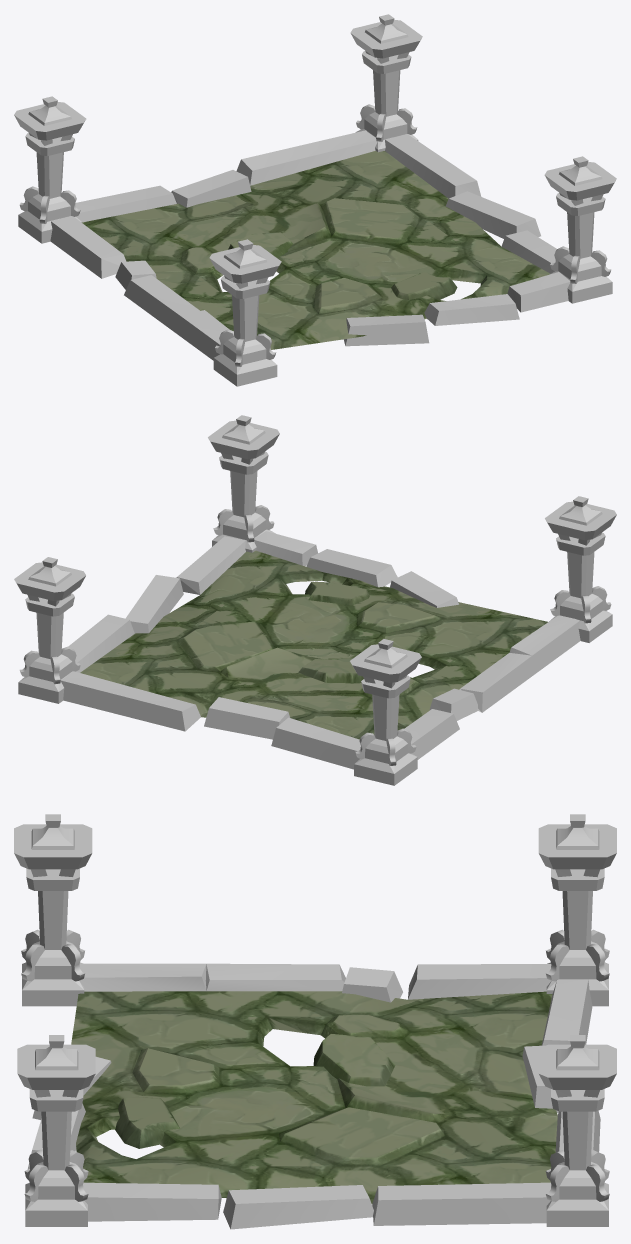
The model's file is SV_AFT_xinshou_jitan_1.FBX.
The picture shows the model from 3 angles, top to bottom: view 1: azimuth 30°, elevation 25°; view 2: azimuth 150°, elevation 25°; view 3: azimuth 270°, elevation 25°; orthographic projection. The views are drawn at different scales.
Parts seen in each view (by area): view 1: Object286, D1000_BUD_02230008; view 2: Object286, D1000_BUD_02230008; view 3: D1000_BUD_02230008, Object286.
Boxes of the visible parts, bbox=[...] form: Object286: bbox=[14, 14, 616, 386]; D1000_BUD_02230008: bbox=[82, 151, 550, 349]; Object286: bbox=[14, 415, 616, 785]; D1000_BUD_02230008: bbox=[80, 550, 547, 739]; D1000_BUD_02230008: bbox=[71, 991, 557, 1203]; Object286: bbox=[14, 814, 616, 1229].
Bounding box in the file's own units: 858 × 295 × 863.
